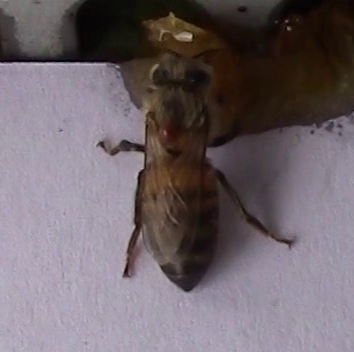Varroa destructor: (156, 121, 184, 144)
